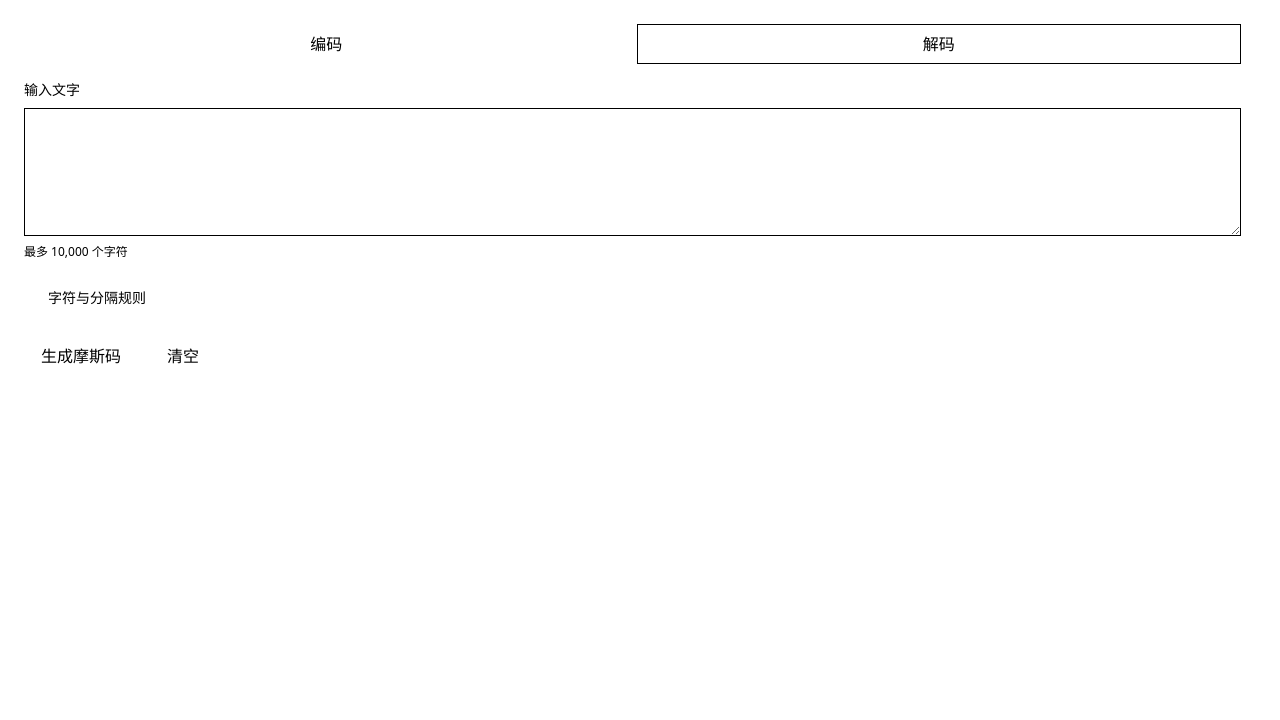
Scenario: App 嵌入工具工作面 › 摩斯显式双向切换，生成前无空结果，解码与复制仍可用
Check: the field labelled "生成结果" is not shown
Step 1. Type "SOS" into the text box labelled "输入文字" → (632, 172), box [24, 108, 1241, 236]
Step 2. Click the button "生成摩斯码" → (81, 356), box [24, 336, 138, 376]
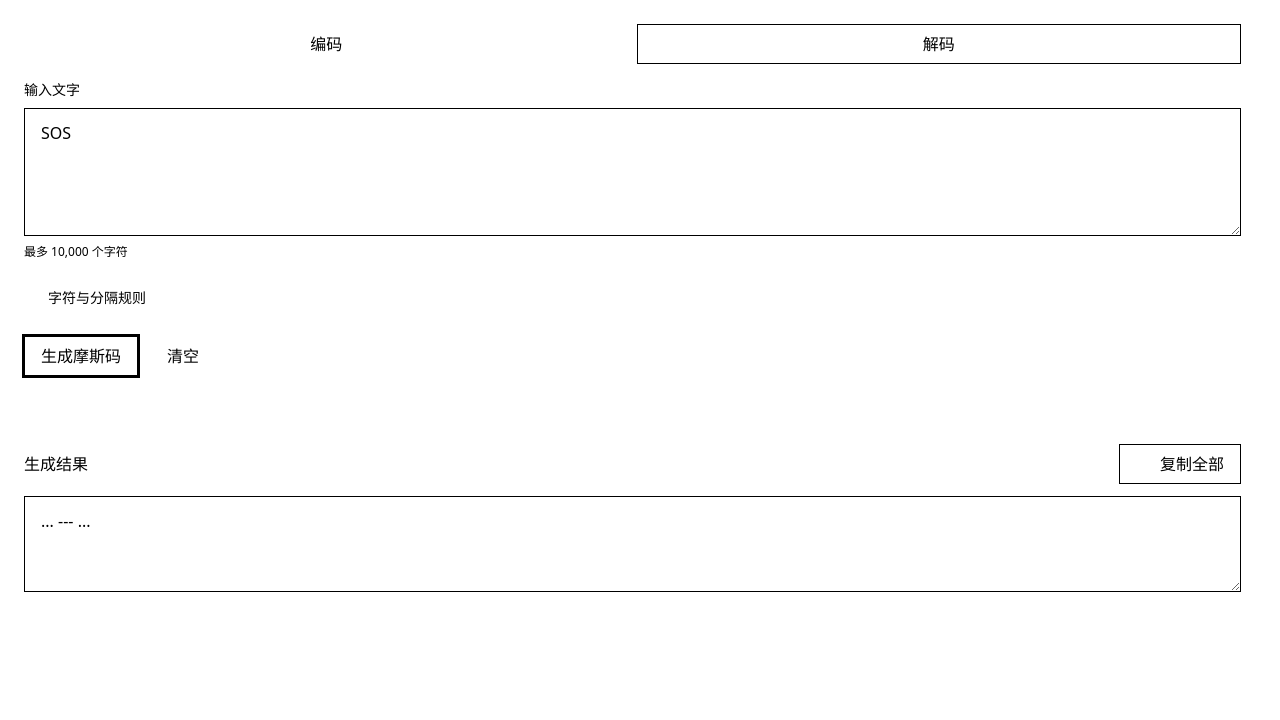
Check: the text box named "生成结果" holds "... --- ...", box [24, 496, 1241, 592]
Step 3. Click the button "解码" → (939, 44), box [636, 24, 1241, 64]
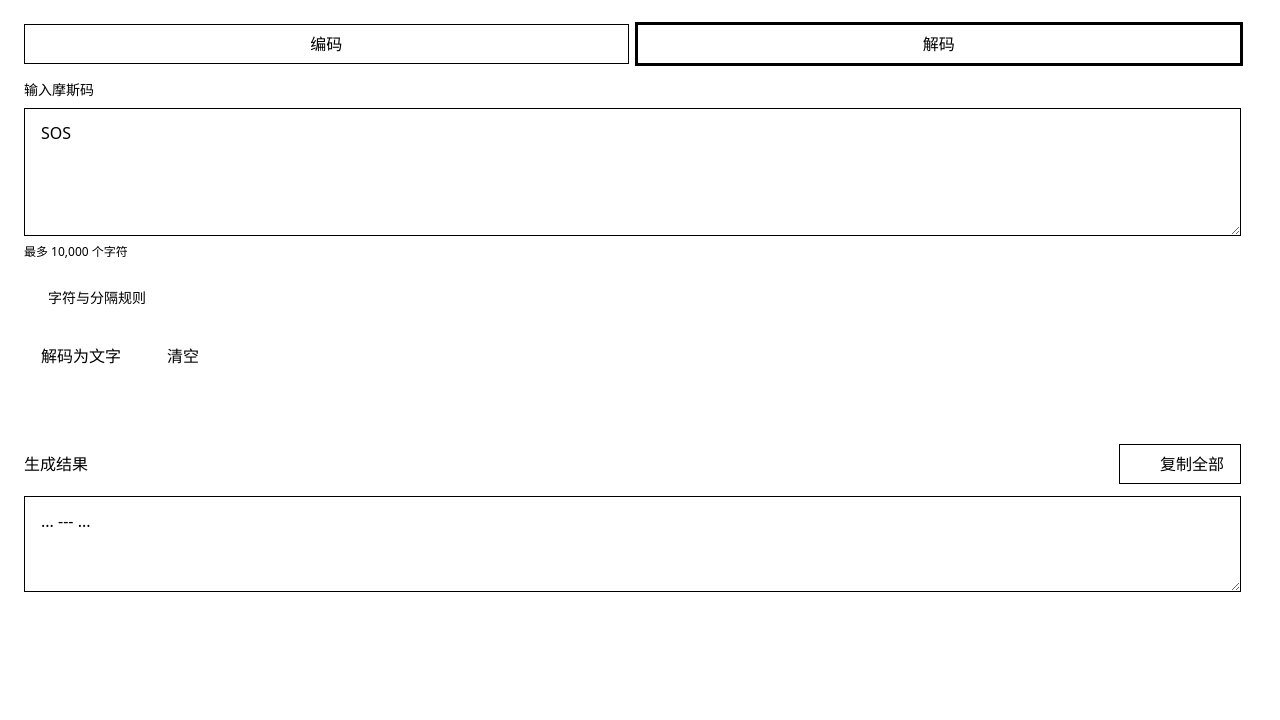
Step 4. Replace the text in the text box labelled "输入摩斯码" with "... --- ..." → (632, 172), box [24, 108, 1241, 236]
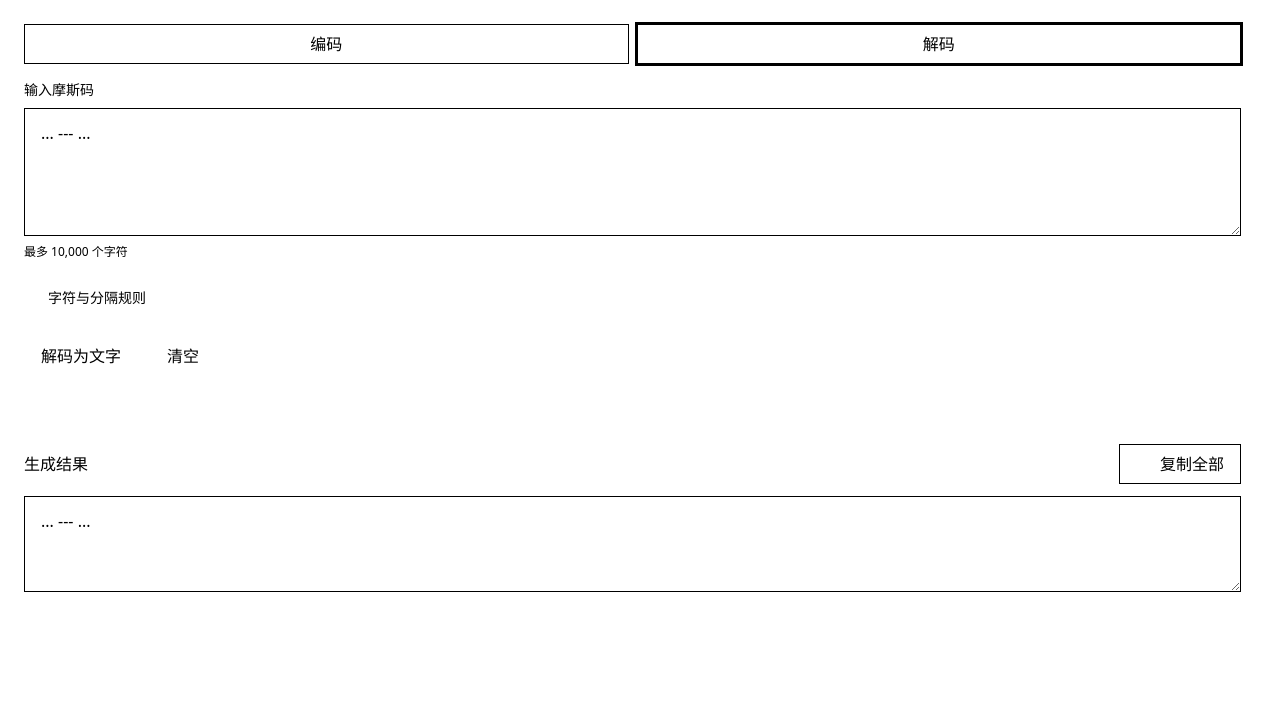
Step 5. Click the button "解码为文字" → (81, 356), box [24, 336, 138, 376]
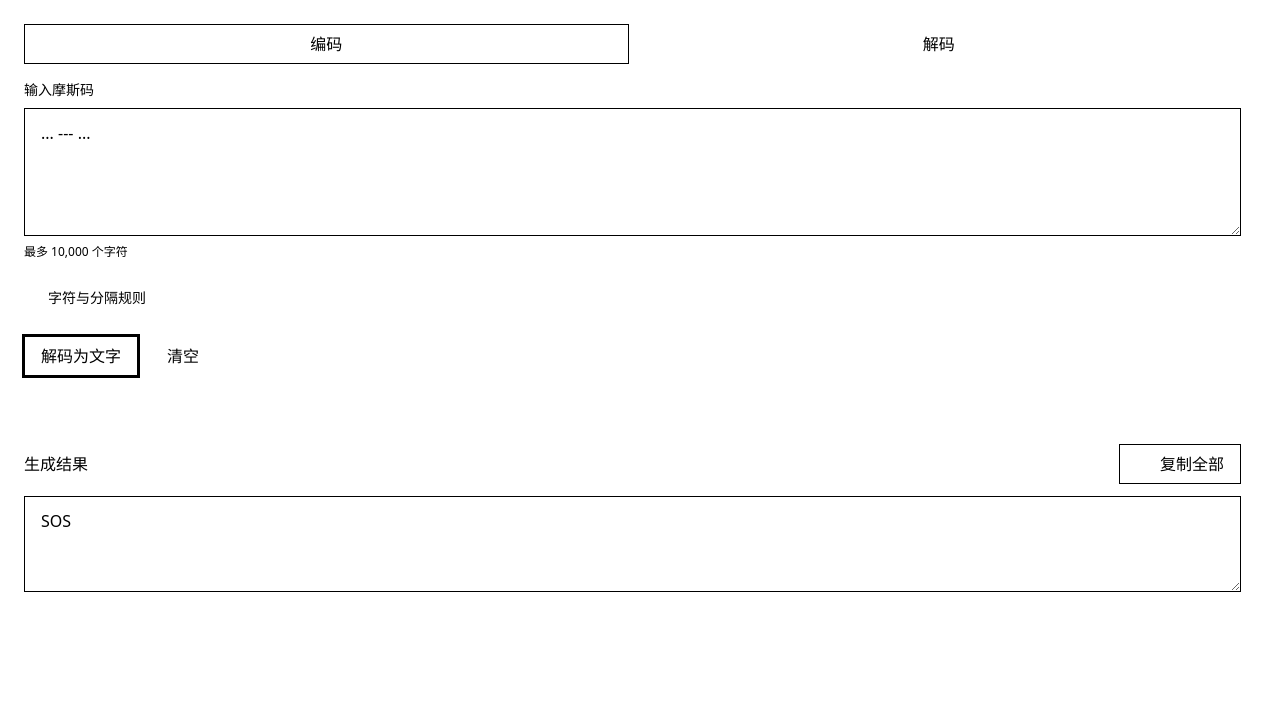
Check: the text box named "生成结果" holds "SOS", box [24, 496, 1241, 592]
Step 6. Click the button "复制全部" → (1180, 464), box [1119, 444, 1241, 484]
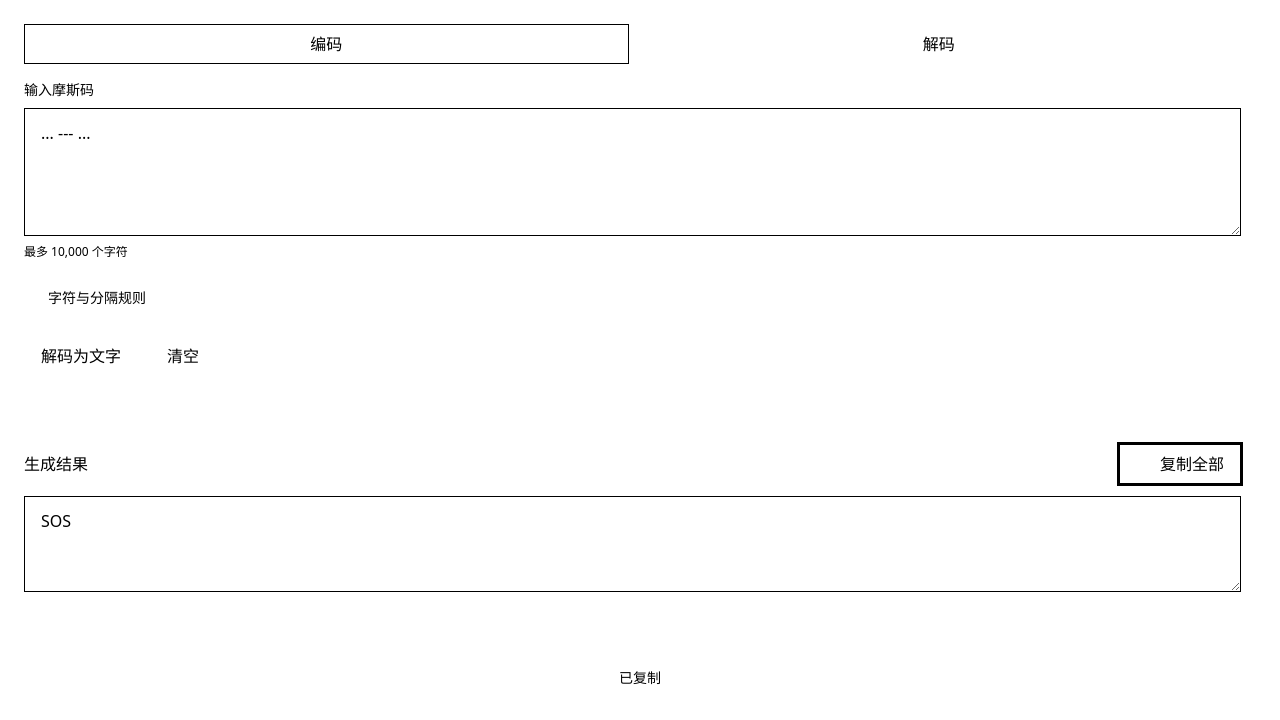
Check: the text "已复制" is shown, box [619, 668, 661, 687]
Step 7. Click the button "清空" → (183, 356), box [150, 336, 216, 376]
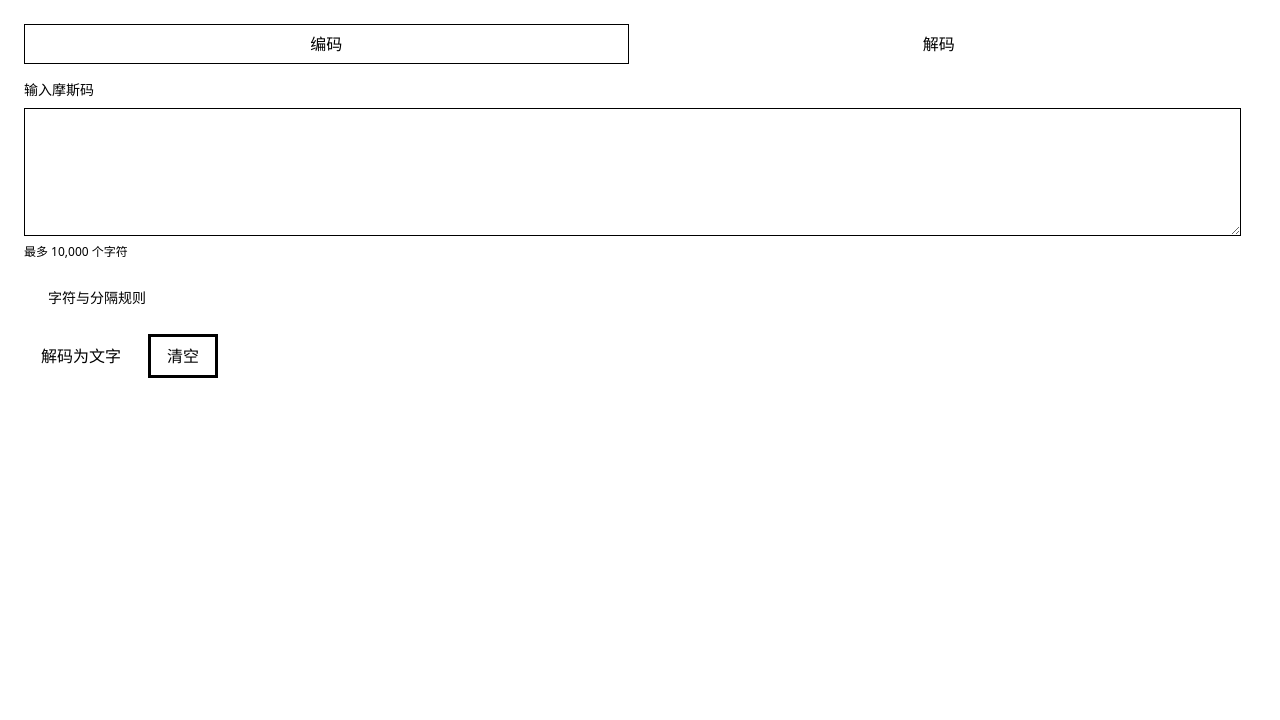
Check: the heading labelled "生成结果" is gone
